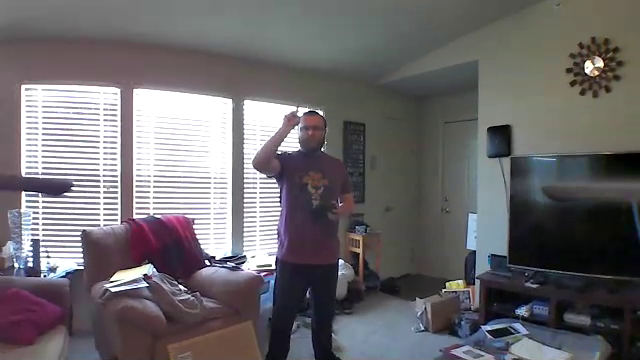up: (279, 99, 303, 131)
